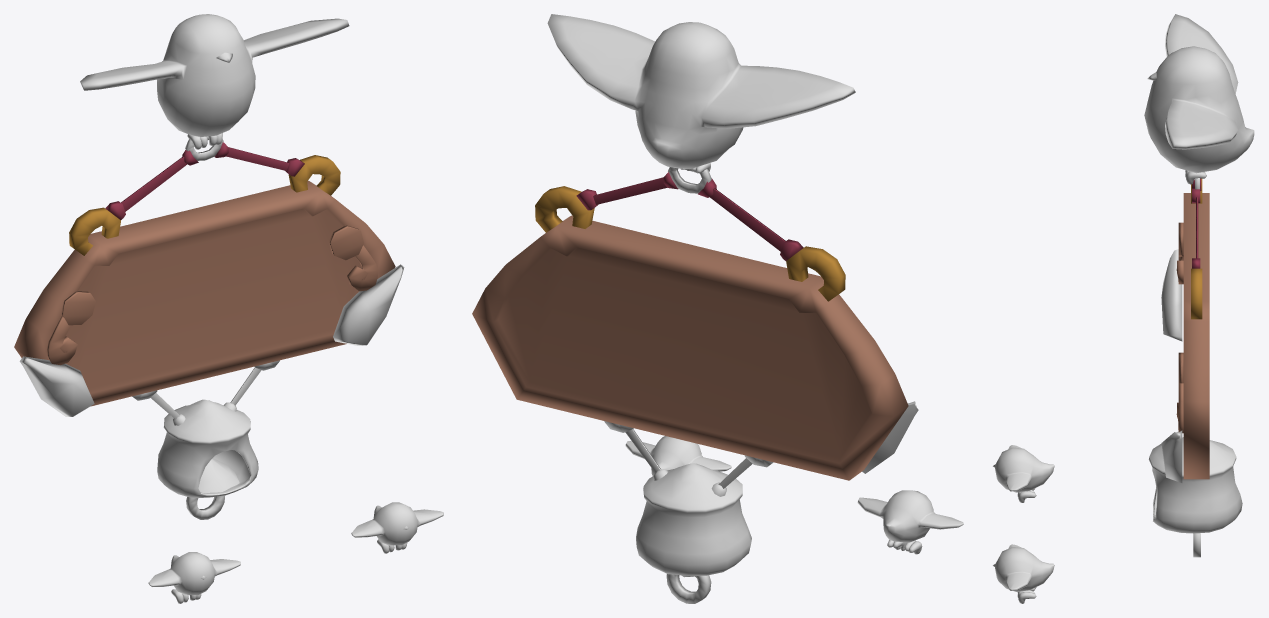
File: SM_Billboard_Big.fbx
3 views of the same model, side by side, from view 1: azimuth 30°, elevation 25°; view 2: azimuth 150°, elevation 25°; view 3: azimuth 270°, elevation 25° (orthographic). The views are drawn at different scales.
Parts seen in each view (by area): view 1: big_billboard_Main, big_billboard_smallbird02, big_billboard_smallbird01; view 2: big_billboard_Main, big_billboard_smallbird02, big_billboard_smallbird01; view 3: big_billboard_Main, big_billboard_smallbird01, big_billboard_smallbird02.
Boxes of the visible parts, bbox=[...] form: big_billboard_Main: bbox=[14, 14, 404, 519]; big_billboard_smallbird02: bbox=[148, 552, 240, 603]; big_billboard_smallbird01: bbox=[351, 502, 443, 553]; big_billboard_Main: bbox=[472, 14, 918, 603]; big_billboard_smallbird02: bbox=[857, 490, 963, 554]; big_billboard_smallbird01: bbox=[625, 436, 731, 475]; big_billboard_Main: bbox=[1144, 14, 1254, 557]; big_billboard_smallbird01: bbox=[993, 544, 1054, 603]; big_billboard_smallbird02: bbox=[993, 445, 1054, 502].
Bounding box in the file's own units: 552 × 689 × 324.
